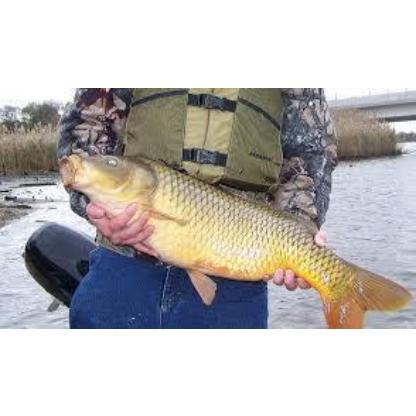ikan-mas: (60, 148, 410, 320)
